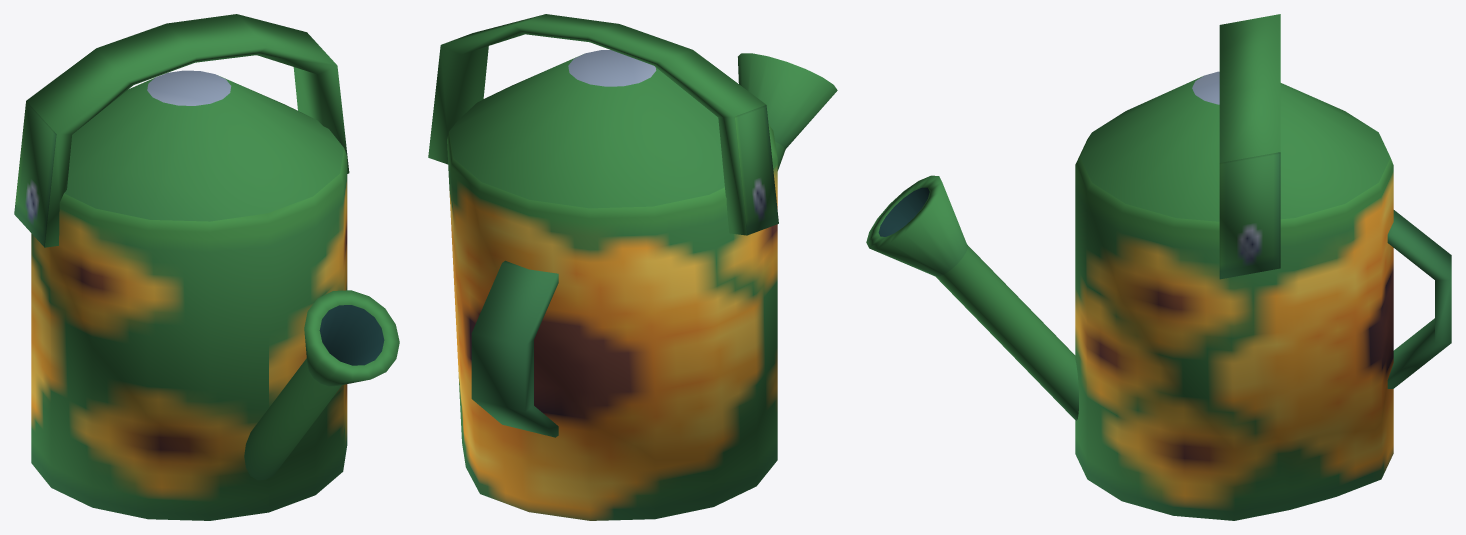
File: Regador.fbx
3 views of the same model, side by side, from view 1: azimuth 30°, elevation 25°; view 2: azimuth 150°, elevation 25°; view 3: azimuth 270°, elevation 25° (orthographic). The views are drawn at different scales.
Visible parts, largest first — view 1: Regador; view 2: Regador; view 3: Regador.
Part boxes in pixels (box(x1,y1,x2,y2)): Regador: box(14, 14, 399, 520); Regador: box(428, 14, 837, 520); Regador: box(866, 14, 1451, 520).
Size of the model in its own units: 37.16 by 61.88 by 48.2.
